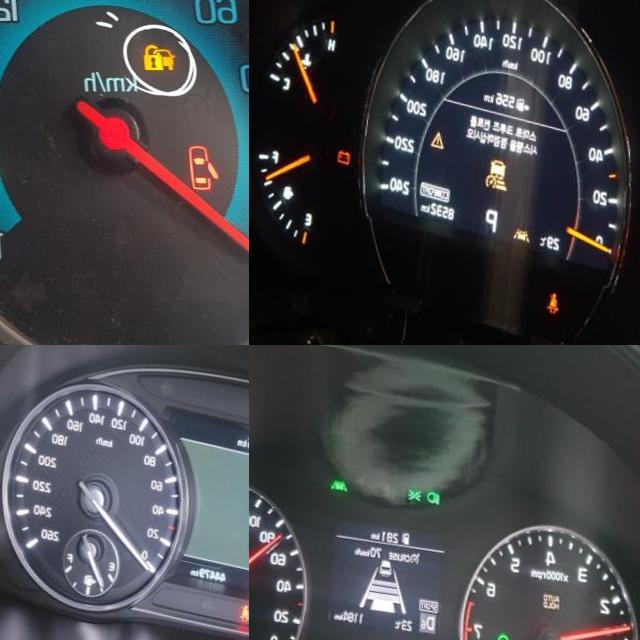Central Warning lamp: (422, 128, 441, 150)
Doors: (180, 143, 214, 190)
Low beam: (422, 490, 438, 504)
SideLamp: (403, 487, 419, 501)
